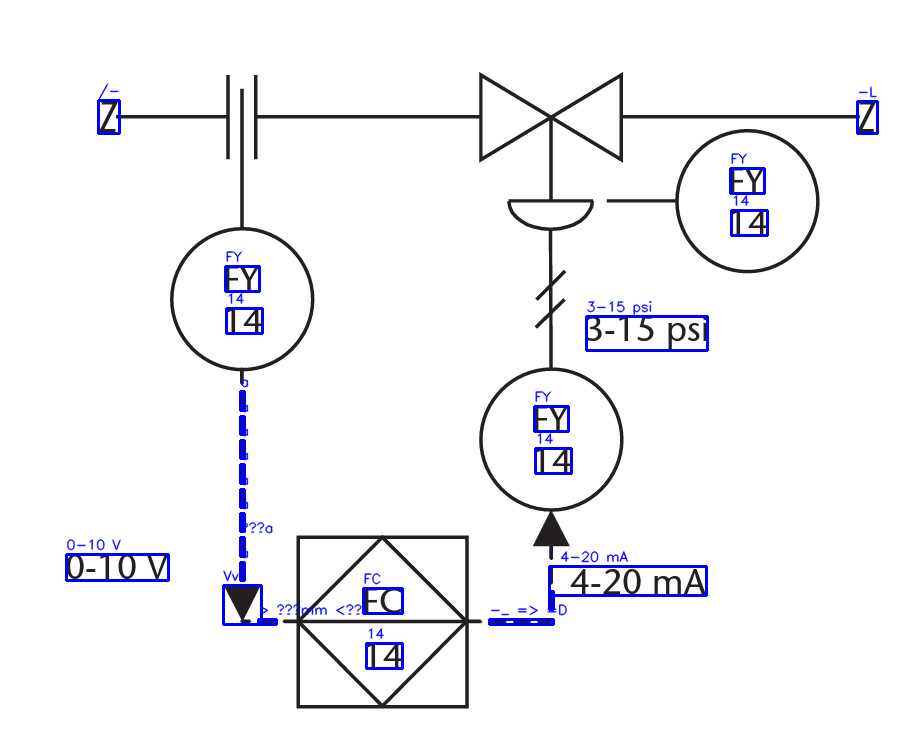Instrumento: (165, 221, 320, 379), (475, 364, 629, 518)
Outro: (292, 528, 473, 714)
Válvula: (470, 67, 629, 235), (673, 126, 830, 270)
